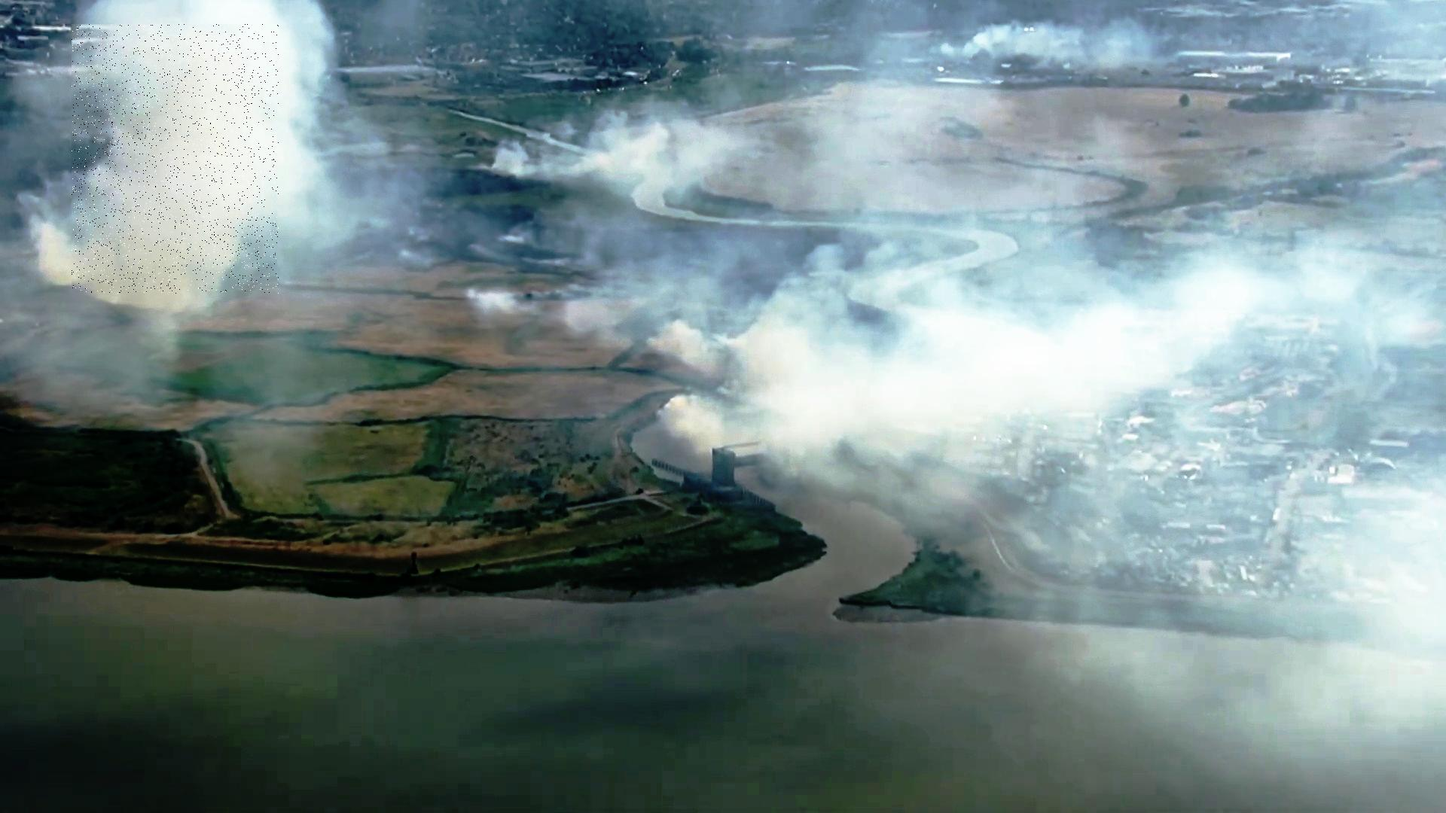smoke: (72, 25, 279, 294)
